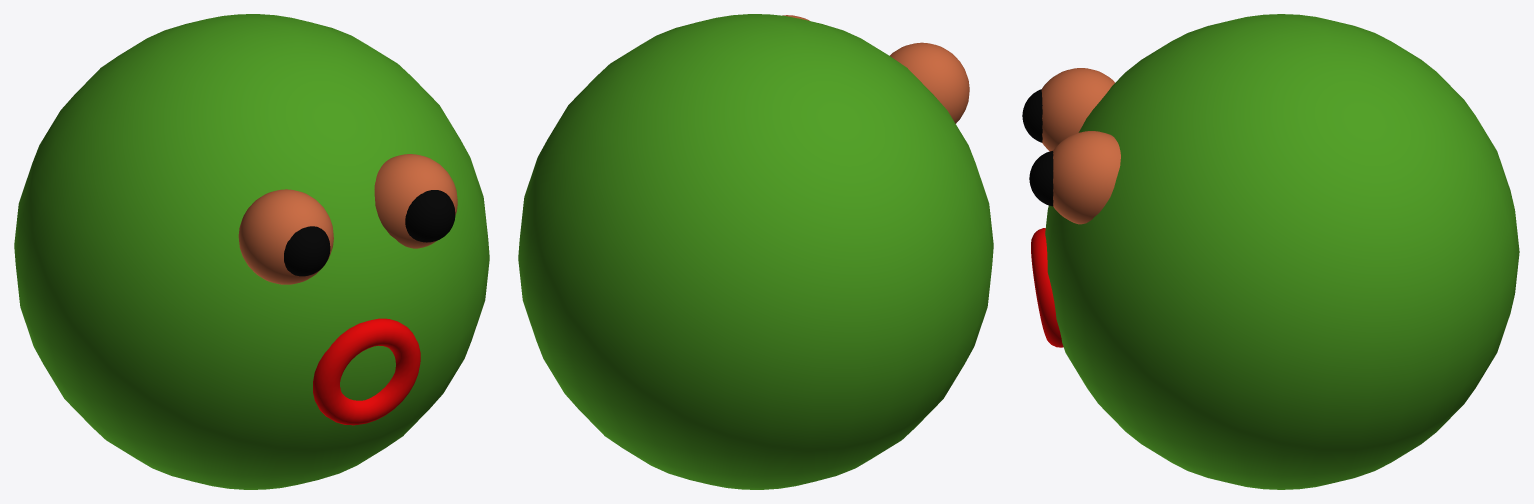
File: shlomo.fbx
3 views of the same model, side by side, from view 1: azimuth 30°, elevation 25°; view 2: azimuth 150°, elevation 25°; view 3: azimuth 270°, elevation 25° (orthographic).
Visible parts, largest first — view 1: Sphere, Torus, Sphere_1, Sphere_2, Sphere_5, Sphere_4; view 2: Sphere, Sphere_1; view 3: Sphere, Sphere_2, Sphere_1, Torus, Sphere_5, Sphere_4.
Boxes of the visible parts, box(x1,y1,x2,y2) form: Sphere: box(14, 14, 489, 489); Torus: box(313, 318, 420, 425); Sphere_1: box(238, 189, 333, 284); Sphere_2: box(374, 154, 457, 248); Sphere_5: box(405, 190, 455, 242); Sphere_4: box(284, 226, 330, 276); Sphere: box(518, 14, 993, 489); Sphere_1: box(890, 42, 969, 123); Sphere: box(1045, 14, 1519, 489); Sphere_2: box(1053, 131, 1120, 224); Sphere_1: box(1041, 68, 1114, 151); Torus: box(1031, 228, 1063, 347); Sphere_5: box(1029, 151, 1053, 206); Sphere_4: box(1022, 89, 1042, 142).
Bounding box in the file's own units: 200 × 200 × 209.
